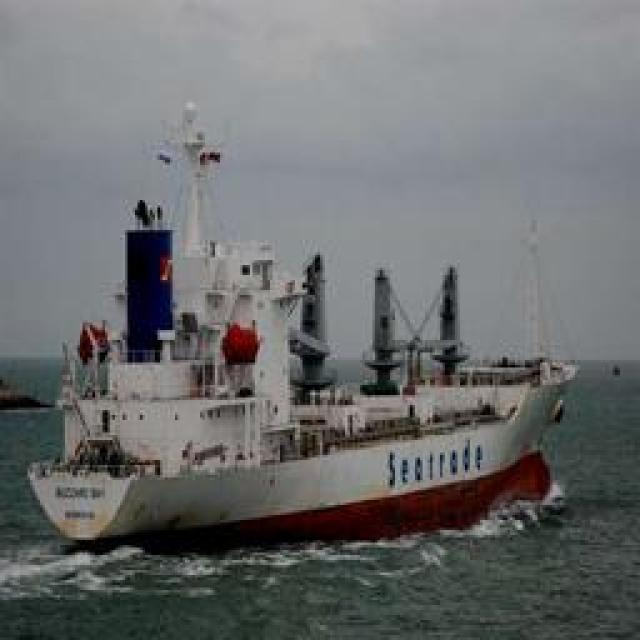CIV_Ship: (11, 242, 566, 556)
